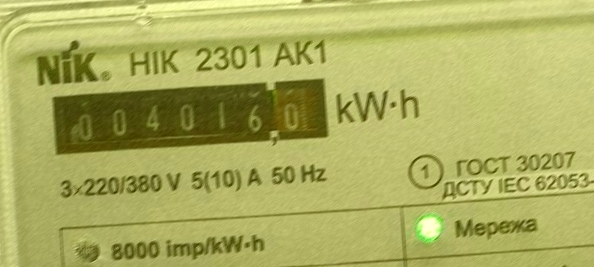0: (177, 97, 199, 133), (75, 107, 98, 141), (110, 102, 130, 137), (281, 97, 302, 130)
1: (214, 94, 231, 129)
4: (144, 98, 163, 133)
6: (245, 98, 265, 131)
screen: (46, 69, 338, 161)
